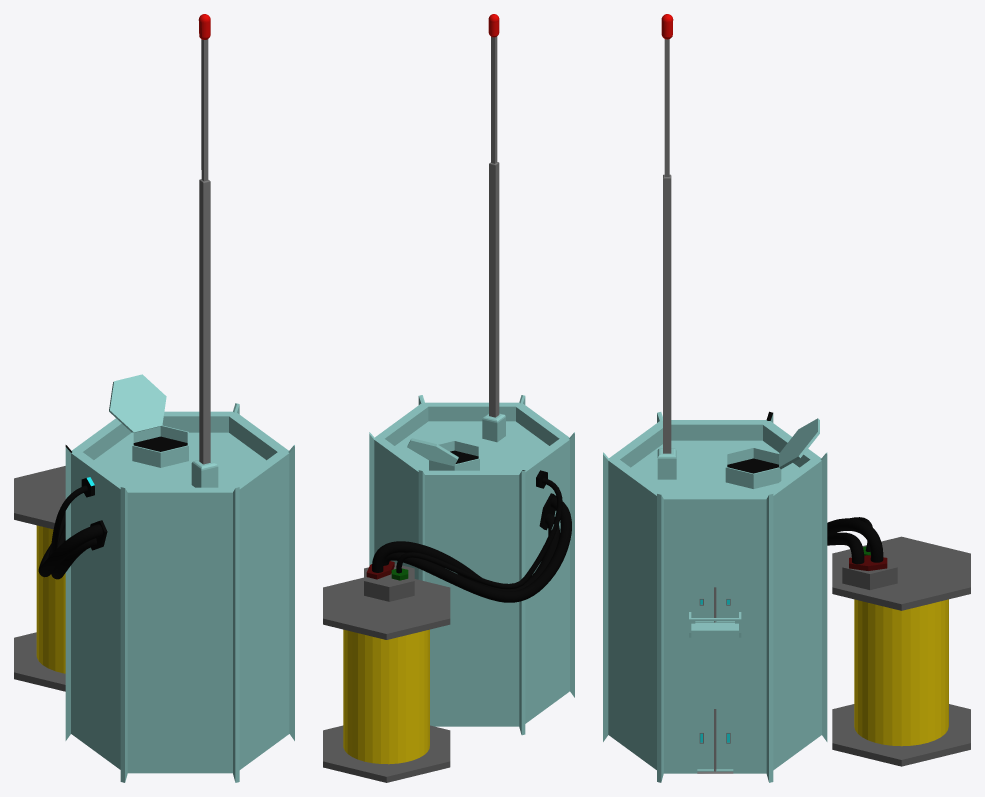
Rendered from MedoBank.fbx.
3 views of the same model, side by side, from view 1: azimuth 30°, elevation 25°; view 2: azimuth 150°, elevation 25°; view 3: azimuth 270°, elevation 25° (orthographic). The views are drawn at different scales.
Parts seen in each view (by area): view 1: Sphere; view 2: Sphere; view 3: Sphere.
Boxes of the visible parts, <box> form: Sphere: <box>14,14,294,782</box>; Sphere: <box>323,14,574,782</box>; Sphere: <box>603,14,970,782</box>.
Size of the model in its own units: 387 by 1279 by 586.
